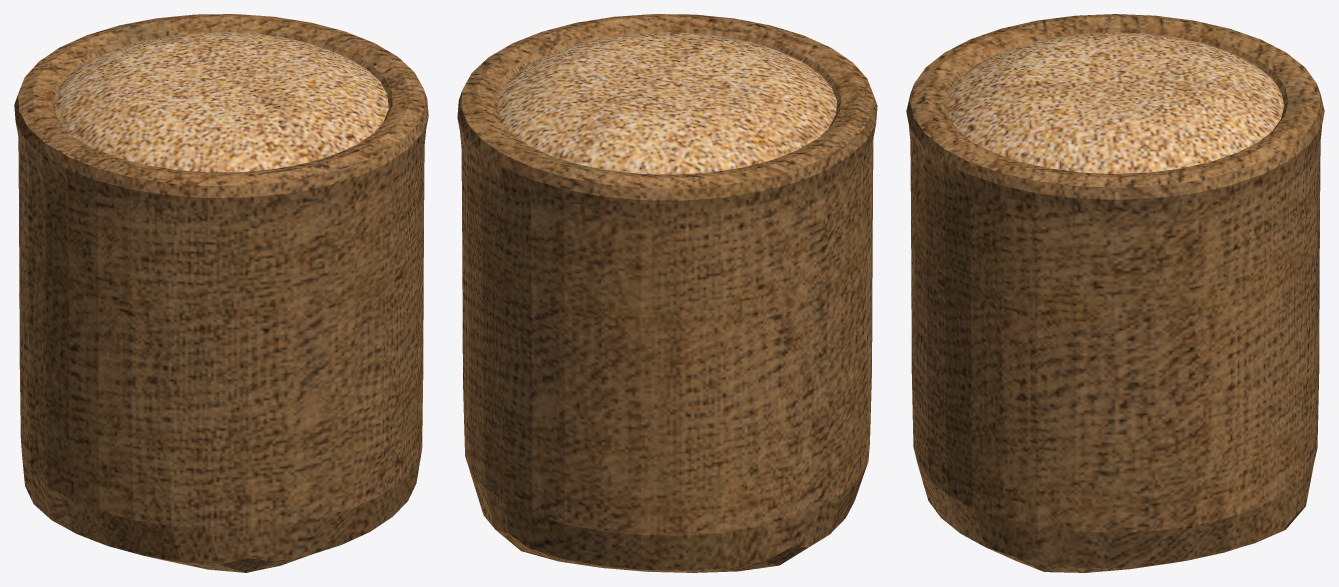
File: bag.fbx
3 views of the same model, side by side, from view 1: azimuth 30°, elevation 25°; view 2: azimuth 150°, elevation 25°; view 3: azimuth 270°, elevation 25° (orthographic).
Parts seen in each view (by area): view 1: bag; view 2: bag; view 3: bag.
Boxes of the visible parts, x1=… form: bag: x1=14, y1=14, x2=428, y2=572; bag: x1=457, y1=14, x2=877, y2=572; bag: x1=906, y1=14, x2=1324, y2=572.
Bounding box in the file's own units: 6.63 × 7.44 × 6.63.
